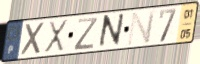7: (157, 7, 178, 45)
N: (125, 9, 157, 47), (96, 11, 126, 51)
X: (20, 20, 47, 58), (42, 18, 70, 54)
Z: (72, 16, 100, 52)
